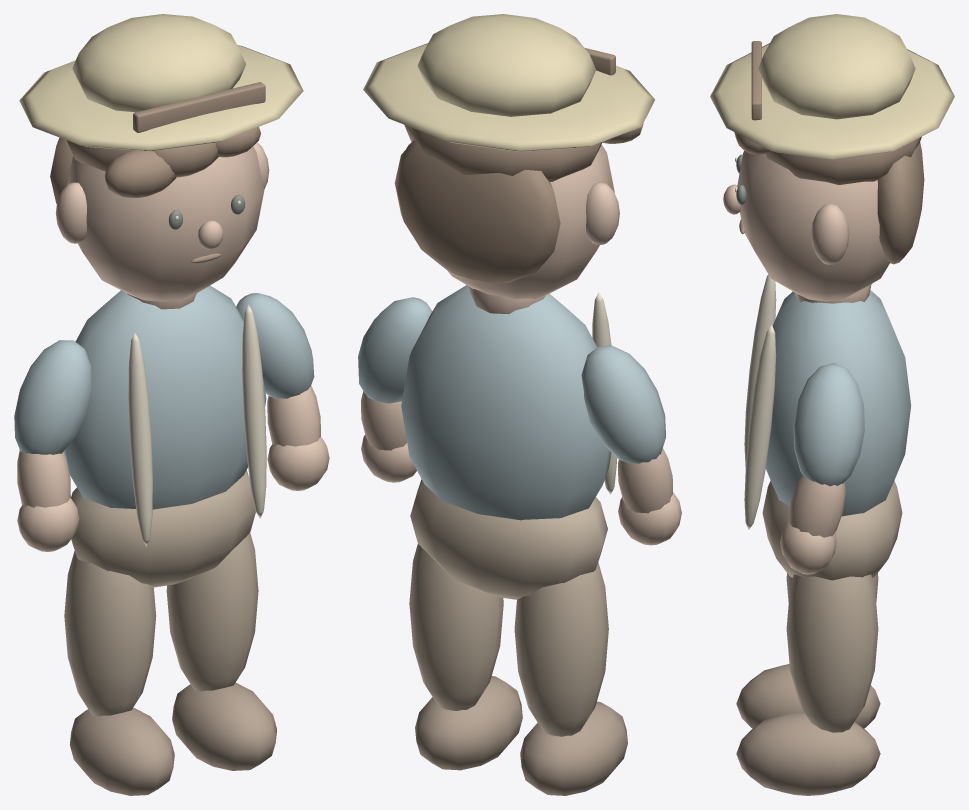
The model's file is daddy-idle.glb.
3 renders of one model, left to right at view 1: azimuth 30°, elevation 25°; view 2: azimuth 150°, elevation 25°; view 3: azimuth 270°, elevation 25°, orthographic. The views are drawn at different scales.
Visible parts, largest first — view 1: Padded shirt.009, Head.009, Straw crown.003, Soft trouser seat.009, Soft straw brim.003, Trouser leg.018, Trouser leg.019, Rounded boot.018, Rounded boot.019, Shirt sleeve.018, Shirt sleeve.019, Suspenders.001 (+13 smaller); view 2: Padded shirt.009, Hair back.009, Straw crown.003, Soft straw brim.003, Soft trouser seat.009, Trouser leg.018, Trouser leg.019, Shirt sleeve.018, Rounded boot.018, Rounded boot.019, Head.009, Shirt sleeve.019 (+8 smaller); view 3: Padded shirt.009, Head.009, Straw crown.003, Trouser leg.019, Soft straw brim.003, Rounded boot.019, Shirt sleeve.019, Soft trouser seat.009, Hair back.009, Suspenders.001, Rounded boot.018, Hair crown.009 (+6 smaller).
Part boxes in pixels (<box>): Padded shirt.009: <box>63,285,266,509</box>; Head.009: <box>67,146,264,301</box>; Straw crown.003: <box>72,14,245,112</box>; Soft trouser seat.009: <box>71,470,255,587</box>; Soft straw brim.003: <box>19,45,303,151</box>; Trouser leg.018: <box>64,551,156,716</box>; Trouser leg.019: <box>166,532,258,691</box>; Rounded boot.018: <box>70,707,174,795</box>; Rounded boot.019: <box>172,682,276,770</box>; Shirt sleeve.018: <box>14,340,91,454</box>; Shirt sleeve.019: <box>236,293,314,399</box>; Suspenders.001: <box>242,304,266,518</box>; Padded shirt.009: <box>401,285,611,520</box>; Hair back.009: <box>394,140,560,283</box>; Straw crown.003: <box>417,14,595,116</box>; Soft straw brim.003: <box>363,43,654,151</box>; Soft trouser seat.009: <box>410,479,607,599</box>; Trouser leg.018: <box>514,562,608,736</box>; Trouser leg.019: <box>409,543,503,710</box>; Shirt sleeve.018: <box>581,345,665,463</box>; Rounded boot.018: <box>520,701,627,795</box>; Rounded boot.019: <box>415,676,522,770</box>; Head.009: <box>448,144,614,299</box>; Shirt sleeve.019: <box>358,297,432,403</box>; Padded shirt.009: <box>759,290,911,516</box>; Head.009: <box>737,150,890,301</box>; Straw crown.003: <box>758,14,915,119</box>; Trouser leg.019: <box>786,574,878,732</box>; Soft straw brim.003: <box>710,43,954,159</box>; Rounded boot.019: <box>736,712,880,795</box>; Shirt sleeve.019: <box>793,363,864,486</box>; Soft trouser seat.009: <box>762,481,902,580</box>; Hair back.009: <box>877,142,924,264</box>; Suspenders.001: <box>744,325,776,529</box>; Rounded boot.018: <box>736,664,880,728</box>; Hair crown.009: <box>765,136,921,184</box>.
Size of the model in its own units: 0.8382 by 1.93 by 0.5824.
